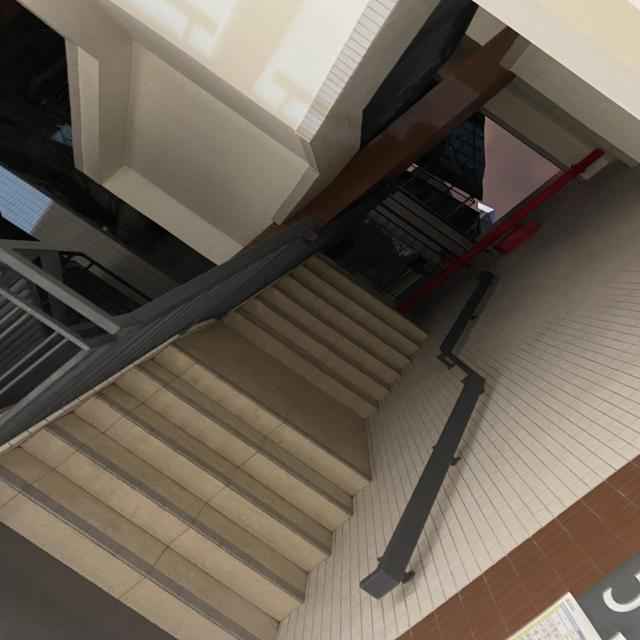Stairs: (0, 328, 400, 640), (212, 243, 459, 426)
